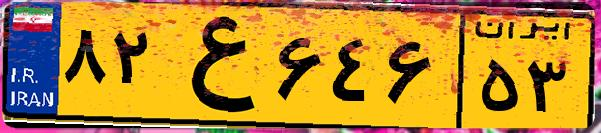2: (110, 28, 158, 98)
3: (525, 38, 570, 115)
4: (330, 28, 385, 110)
5: (475, 38, 525, 113)
6: (270, 28, 330, 110), (385, 28, 445, 110)
8: (57, 26, 110, 100)
ع: (158, 12, 270, 120)
